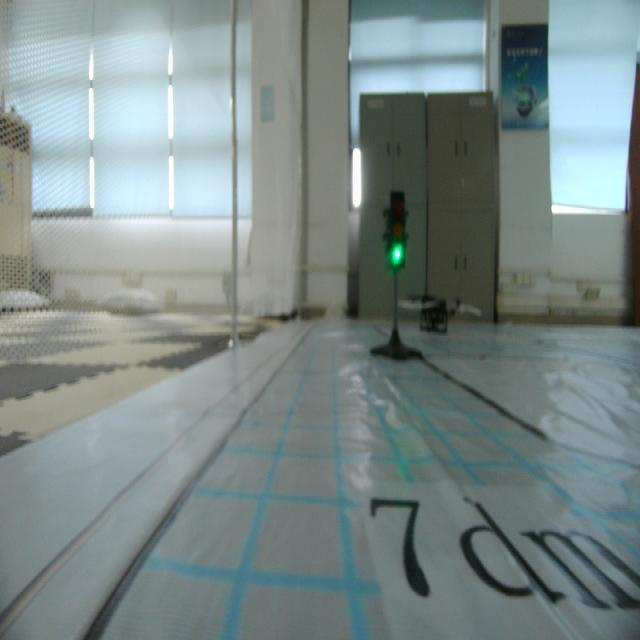green: (387, 188, 409, 271)
